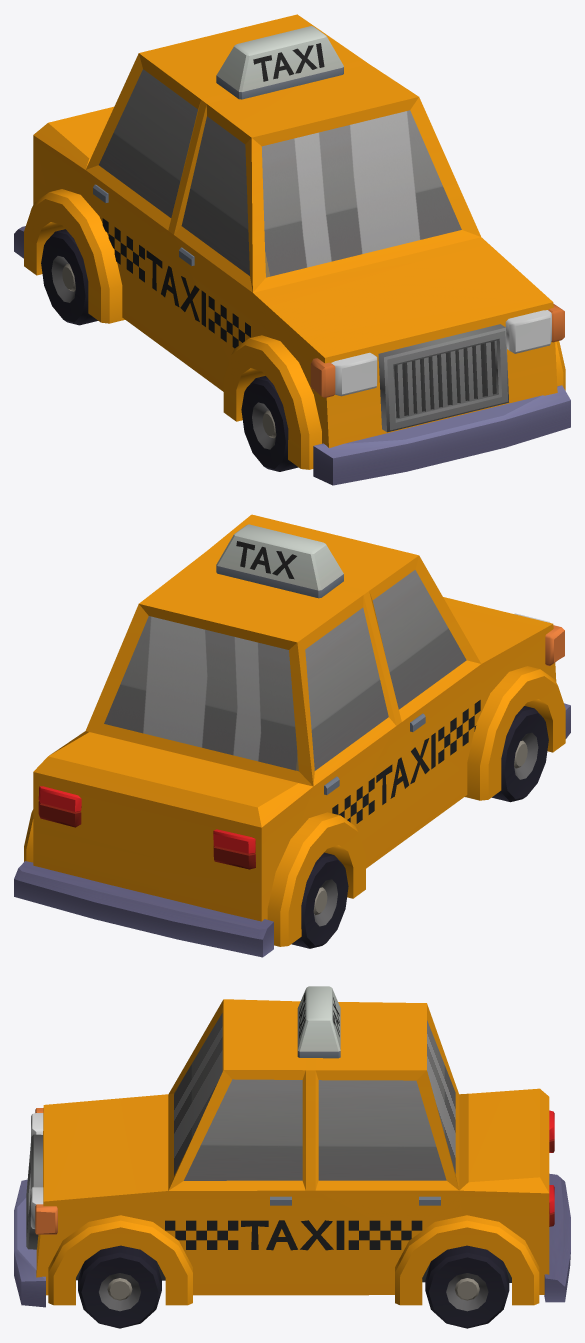
File: Taxi.glb
3 views of the same model, one above another, from view 1: azimuth 30°, elevation 25°; view 2: azimuth 150°, elevation 25°; view 3: azimuth 270°, elevation 25° (orthographic). The views are drawn at different scales.
Parts seen in each view (by area): view 1: Taxi, Wheel_bR, Wheel_fR; view 2: Taxi, Wheel_fR, Wheel_bR; view 3: Taxi, Wheel_bL, Wheel_fL.
Boxes of the visible parts, <box> form: Taxi: <box>14,14,570,485</box>; Wheel_bR: <box>41,229,97,325</box>; Wheel_fR: <box>241,376,298,471</box>; Taxi: <box>14,514,570,957</box>; Wheel_fR: <box>492,706,548,802</box>; Wheel_bR: <box>291,852,348,948</box>; Taxi: <box>14,986,570,1307</box>; Wheel_bL: <box>425,1245,509,1328</box>; Wheel_fL: <box>78,1245,161,1328</box>.
Bounding box in the file's own units: 1.09 × 1.23 × 2.28.
6 materials, 6 textured.
